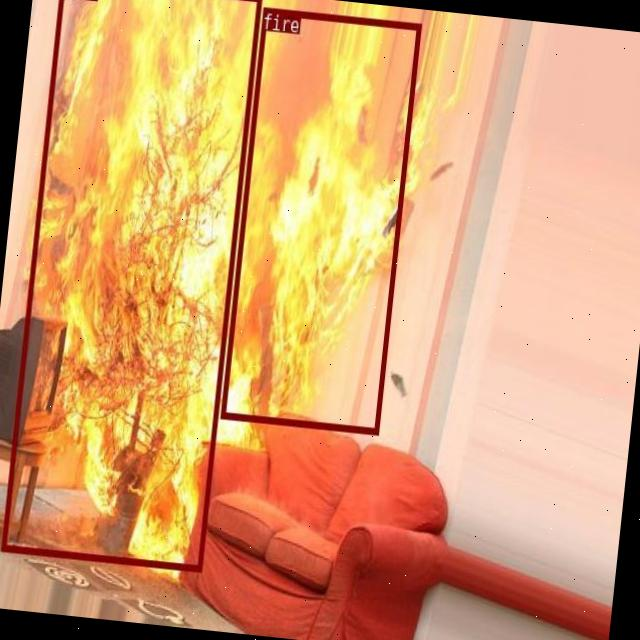fire: (0, 0, 260, 571), (220, 6, 420, 434)
